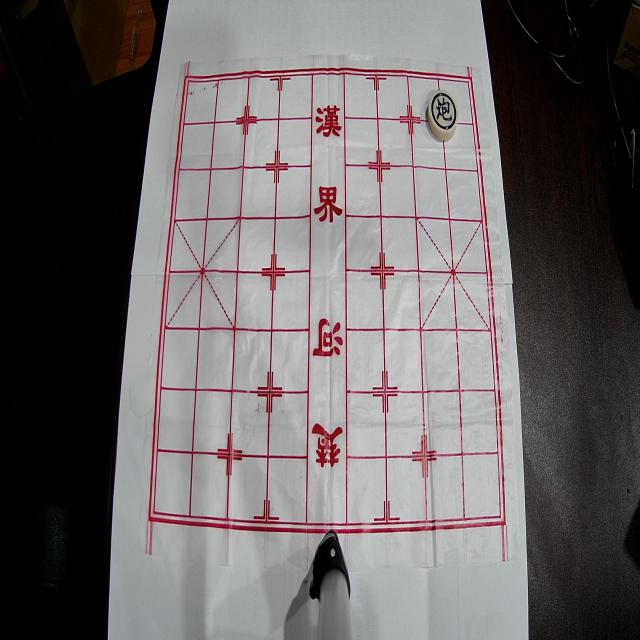black-cannon: (428, 90, 458, 140)
